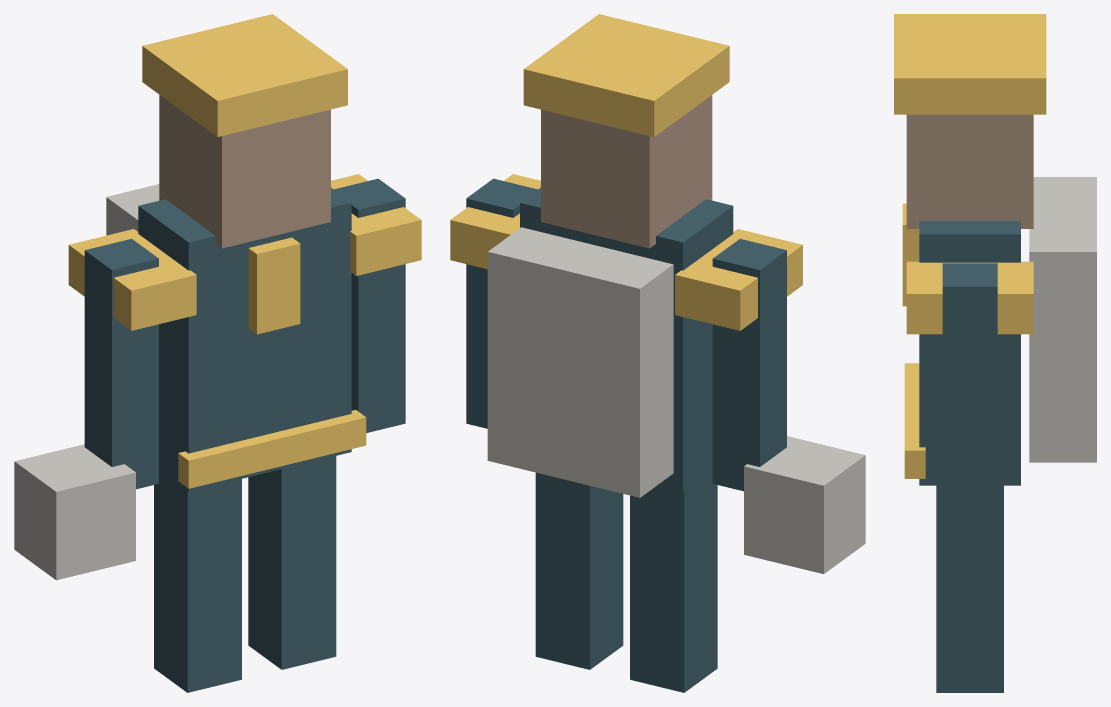
The model's file is 02_draven_frostrelay_keeper_of_elemental.glb.
3 renders of one model, left to right at view 1: azimuth 30°, elevation 25°; view 2: azimuth 150°, elevation 25°; view 3: azimuth 270°, elevation 25°, orthographic.
Parts seen in each view (by area): view 1: Draven Frostrelay, Keeper of Elemental; view 2: Draven Frostrelay, Keeper of Elemental; view 3: Draven Frostrelay, Keeper of Elemental.
Part boxes in pixels (x1,y1,x2,y2): Draven Frostrelay, Keeper of Elemental: (14, 14, 421, 692); Draven Frostrelay, Keeper of Elemental: (450, 14, 865, 692); Draven Frostrelay, Keeper of Elemental: (894, 14, 1096, 692).
Bounding box in the file's own units: 0.9363 × 1.5 × 0.4517.
